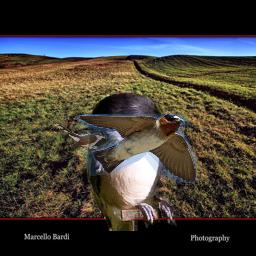Cuckoo: (53, 120, 107, 155)
Swallow: (84, 88, 180, 231), (77, 114, 197, 183)
